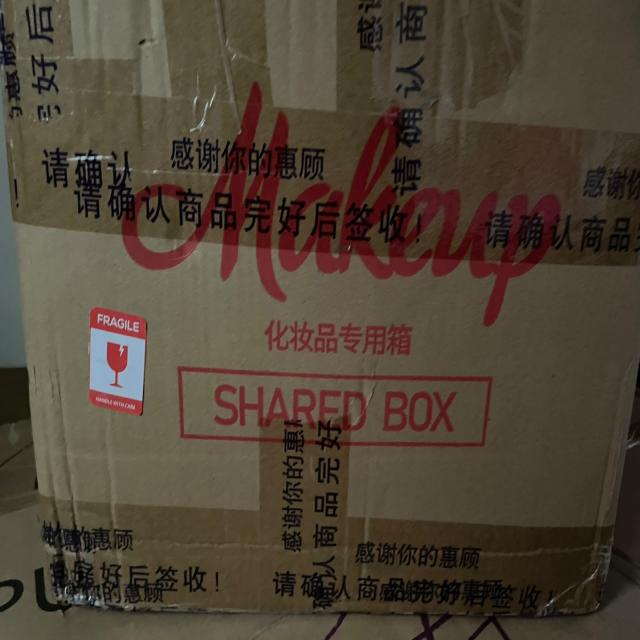carton_box: (1, 1, 640, 639)
fragile_label: (81, 292, 159, 427)
package_damage: (126, 23, 177, 68)
